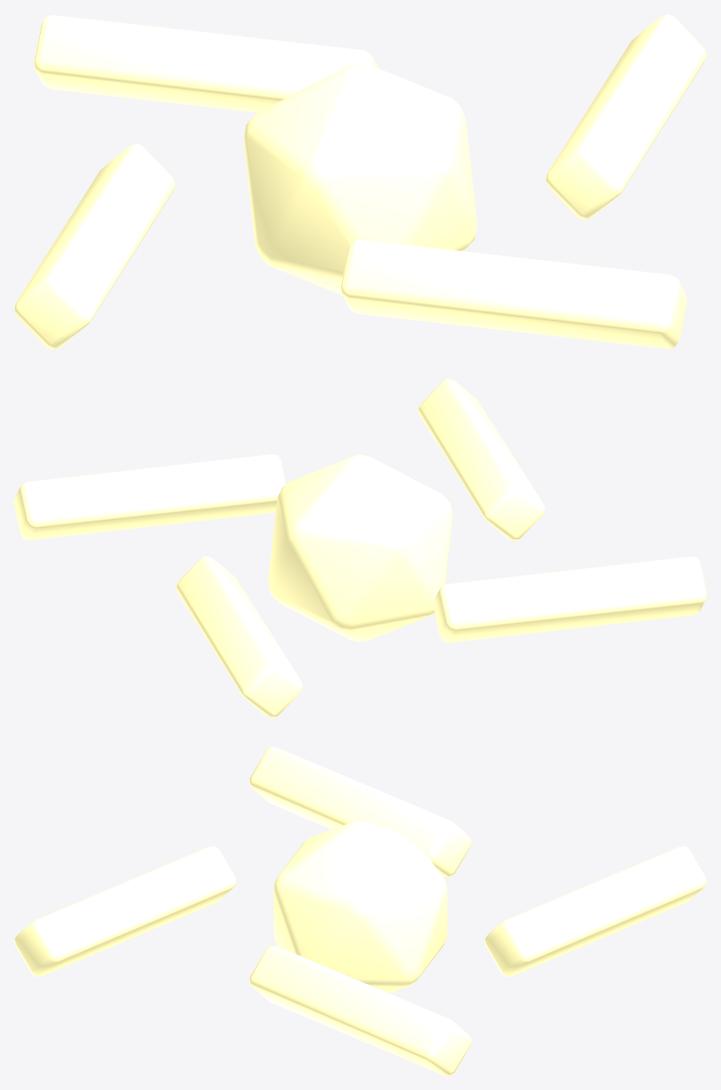
File: Idol_Star_Shard.glb
3 renders of one model, top to bottom at view 1: azimuth 30°, elevation 25°; view 2: azimuth 150°, elevation 25°; view 3: azimuth 270°, elevation 25°, orthographic. The views are drawn at different scales.
Parts seen in each view (by area): view 1: Idol_Star_Shard; view 2: Idol_Star_Shard; view 3: Idol_Star_Shard.
Boxes of the visible parts, <box> form: Idol_Star_Shard: <box>14,14,706,349</box>; Idol_Star_Shard: <box>14,378,706,718</box>; Idol_Star_Shard: <box>14,747,706,1075</box>.
Size of the model in its own units: 1 by 0.2849 by 1.
